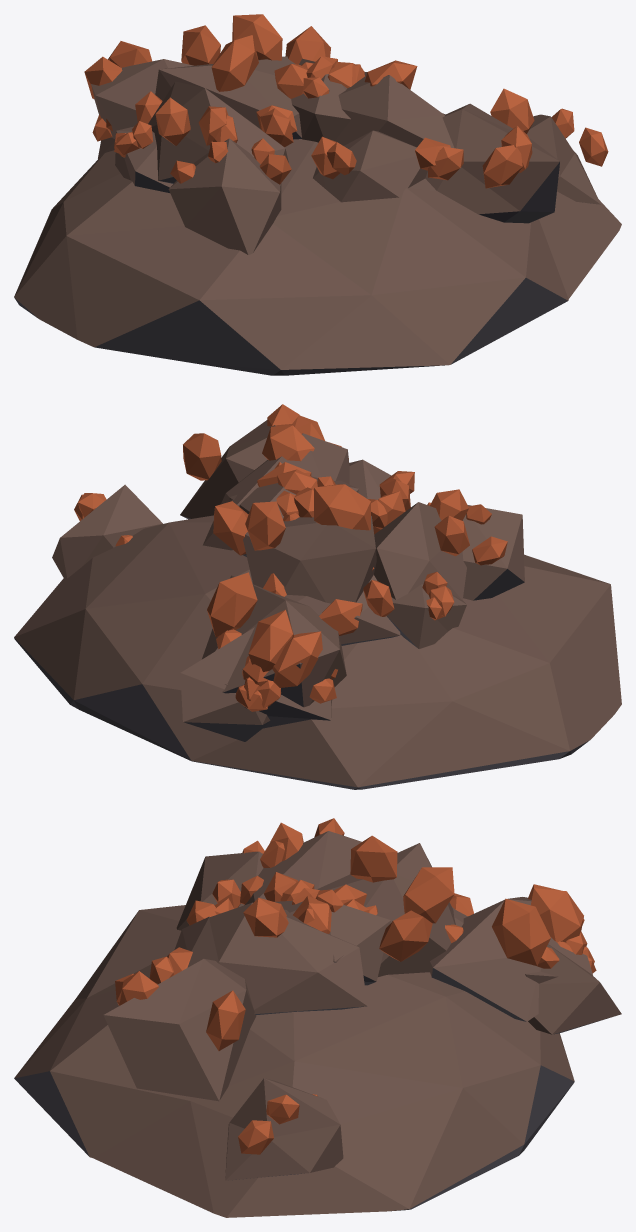
File: Res_OrePile_Iron.fbx
3 renders of one model, top to bottom at view 1: azimuth 30°, elevation 25°; view 2: azimuth 150°, elevation 25°; view 3: azimuth 270°, elevation 25°, orthographic. The views are drawn at different scales.
Parts seen in each view (by area): view 1: Res_OrePile_Iron; view 2: Res_OrePile_Iron; view 3: Res_OrePile_Iron.
Boxes of the visible parts, bbox=[...] form: Res_OrePile_Iron: bbox=[14, 14, 621, 375]; Res_OrePile_Iron: bbox=[14, 404, 621, 789]; Res_OrePile_Iron: bbox=[14, 818, 621, 1217].
Size of the model in its own units: 1.01 by 0.3791 by 0.9491.
